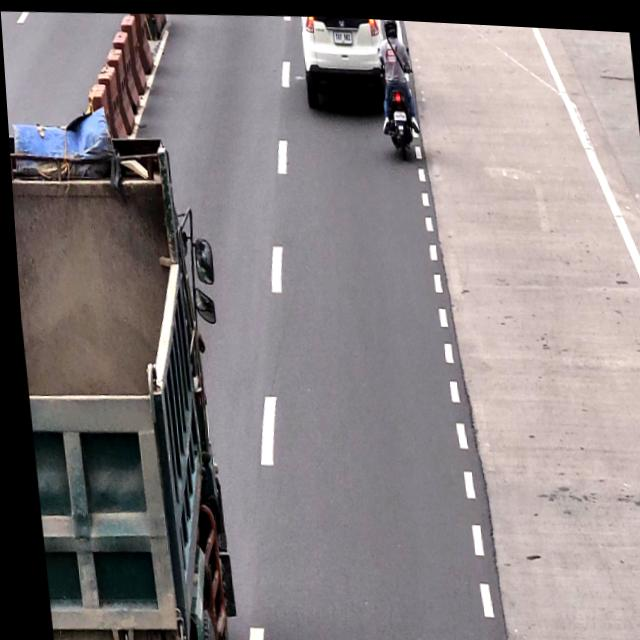Car: (297, 12, 392, 101)
License-Plate: (334, 22, 353, 42)
Motorcycle: (372, 15, 418, 154)
Truck: (7, 131, 226, 640)
